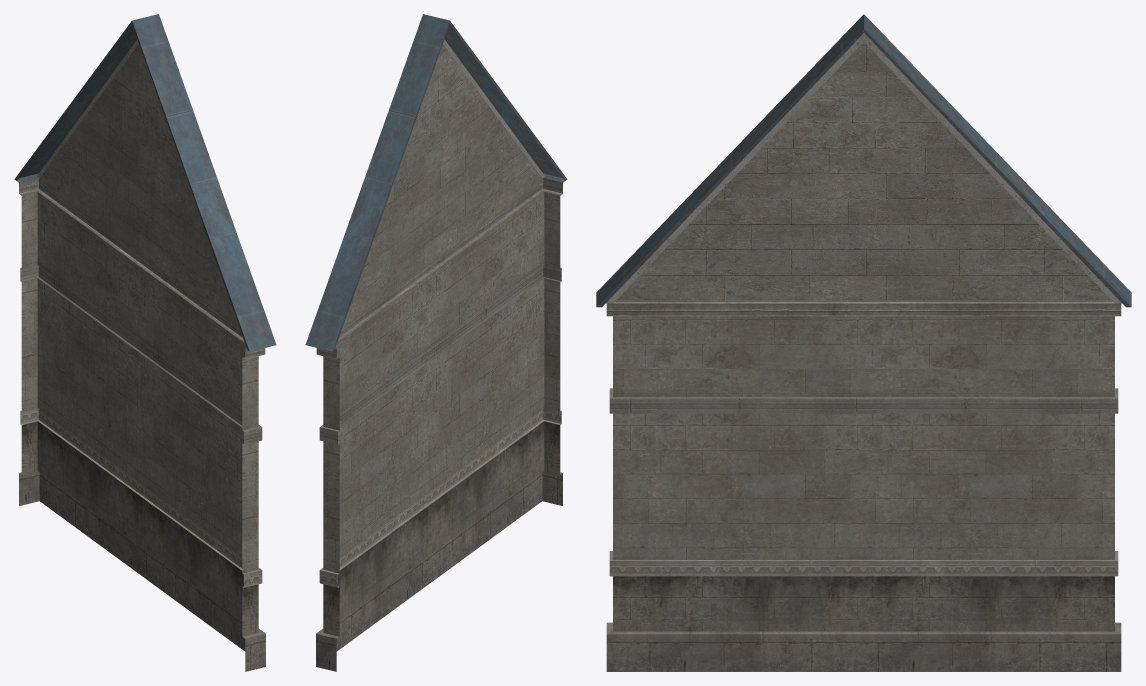
File: bg_lut_lucastle_house01_sm_sup.FBX
The picture shows the model from 3 angles, left to right: view 1: azimuth 30°, elevation 25°; view 2: azimuth 150°, elevation 25°; view 3: azimuth 270°, elevation 25°; orthographic projection. The views are drawn at different scales.
Parts seen in each view (by area): view 1: bg_lut_lucastle_house01_sm_sup; view 2: bg_lut_lucastle_house01_sm_sup; view 3: bg_lut_lucastle_house01_sm_sup.
Part boxes in pixels (bbox=[...]): bg_lut_lucastle_house01_sm_sup: bbox=[14, 14, 276, 671]; bg_lut_lucastle_house01_sm_sup: bbox=[305, 14, 567, 671]; bg_lut_lucastle_house01_sm_sup: bbox=[596, 14, 1131, 671].
Bounding box in the file's own units: 33.85 × 684 × 513.
